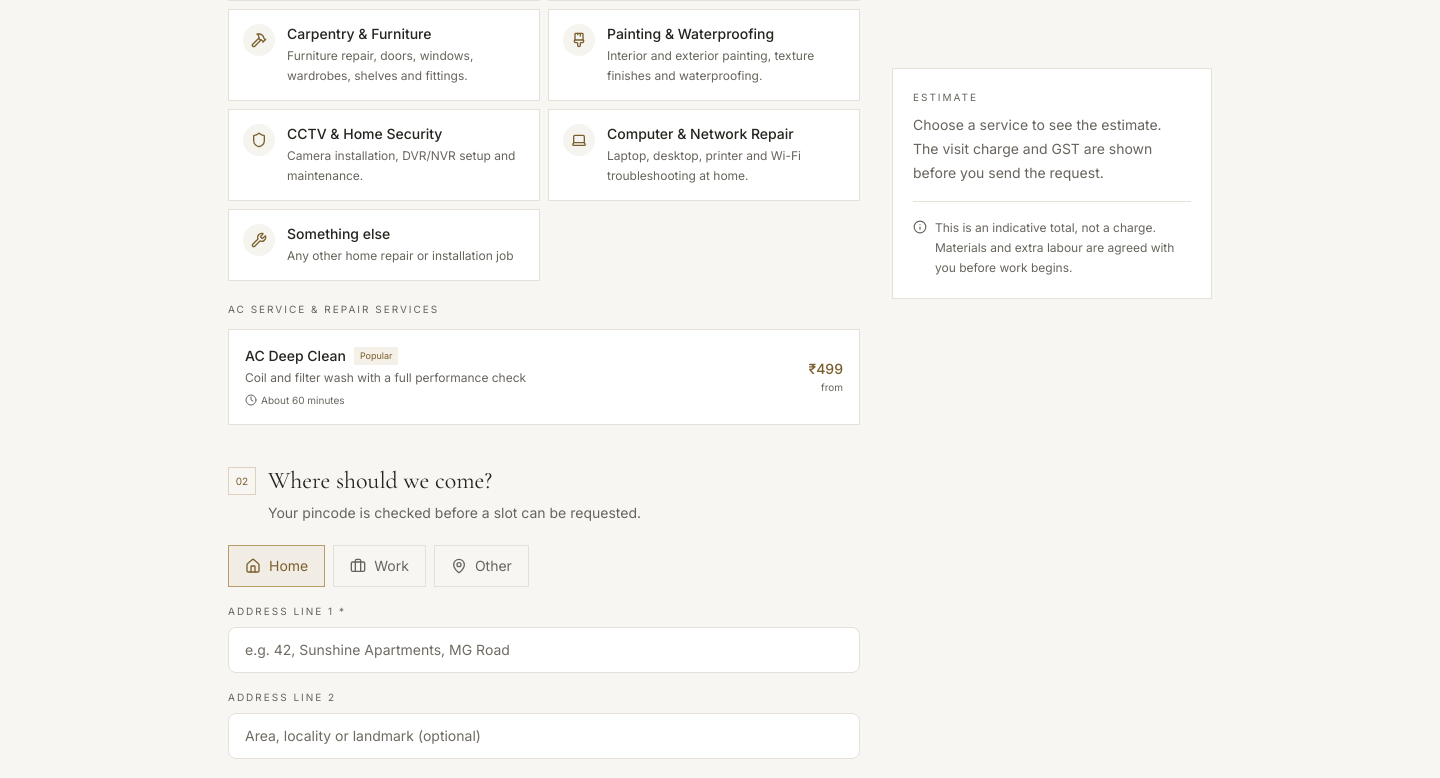
it: booking flow — estimate › shows the itemised estimate that matches the server arithmetic
(page scrolled)
Click the button "AC Deep Clean".
click(295, 356)  # box [228,329,860,425]
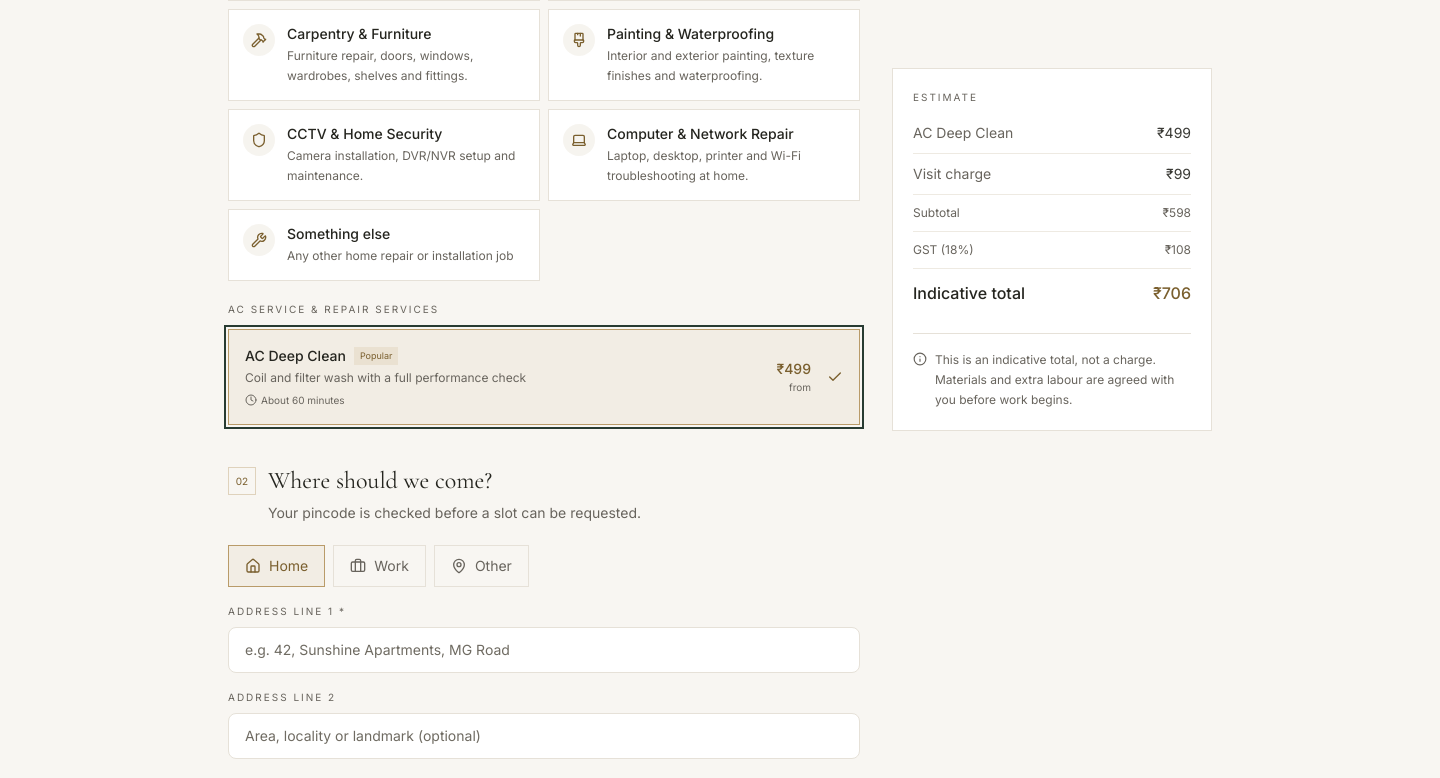
Expected: the text "₹99" is shown, [1166,164,1191,184]
Expected: the text "₹108" is shown, [1165,242,1191,258]
Expected: the text "₹706" is shown, [1153,281,1191,305]
